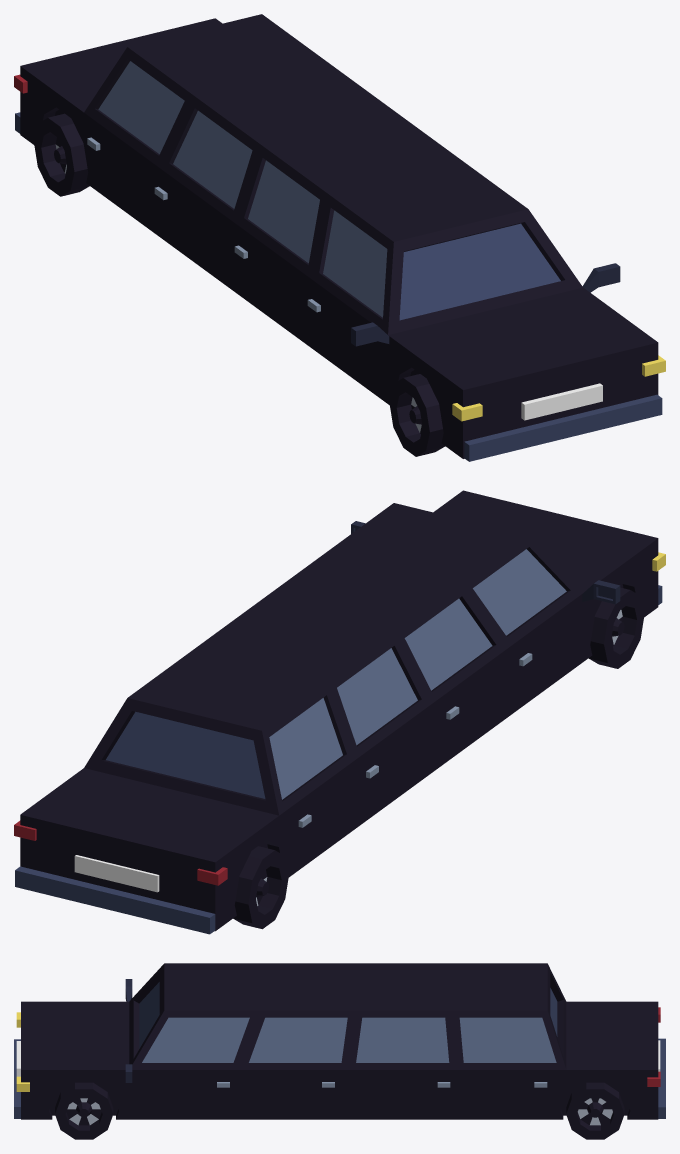
File: car3.fbx
3 renders of one model, top to bottom at view 1: azimuth 30°, elevation 25°; view 2: azimuth 150°, elevation 25°; view 3: azimuth 270°, elevation 25°, orthographic. The views are drawn at different scales.
Parts seen in each view (by area): view 1: car-black-limuzine; view 2: car-black-limuzine; view 3: car-black-limuzine.
Part boxes in pixels (x1=…): car-black-limuzine: x1=14, y1=14, x2=665, y2=461; car-black-limuzine: x1=14, y1=490, x2=665, y2=934; car-black-limuzine: x1=14, y1=963, x2=665, y2=1139.
Size of the model in its own units: 2.71 by 1.56 by 8.04.
